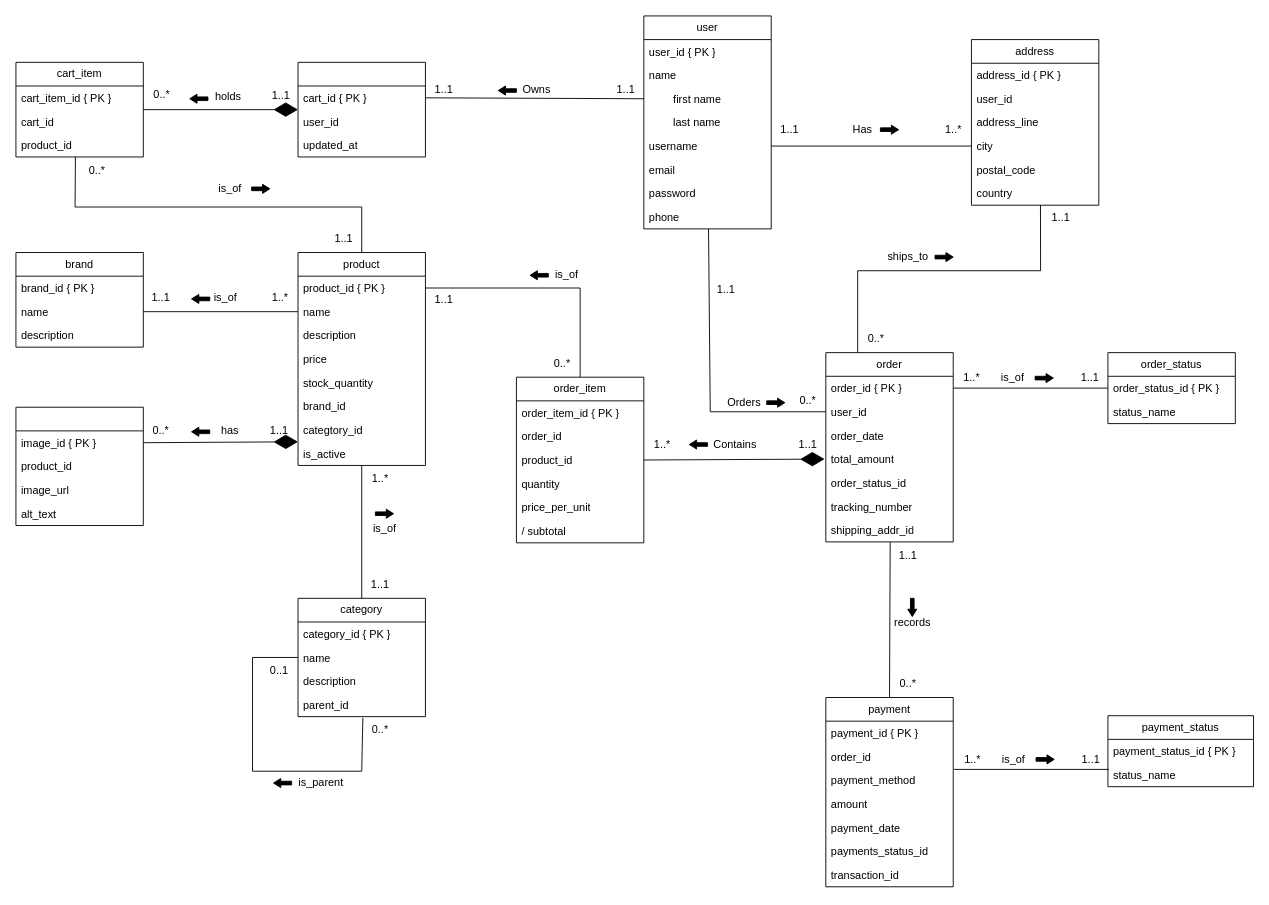
This 1269x905 diagram has some shape labels left out. Each missing label, with the box of its shape:
product_image: (15, 406, 143, 526)
shopping_cart: (297, 61, 425, 157)
